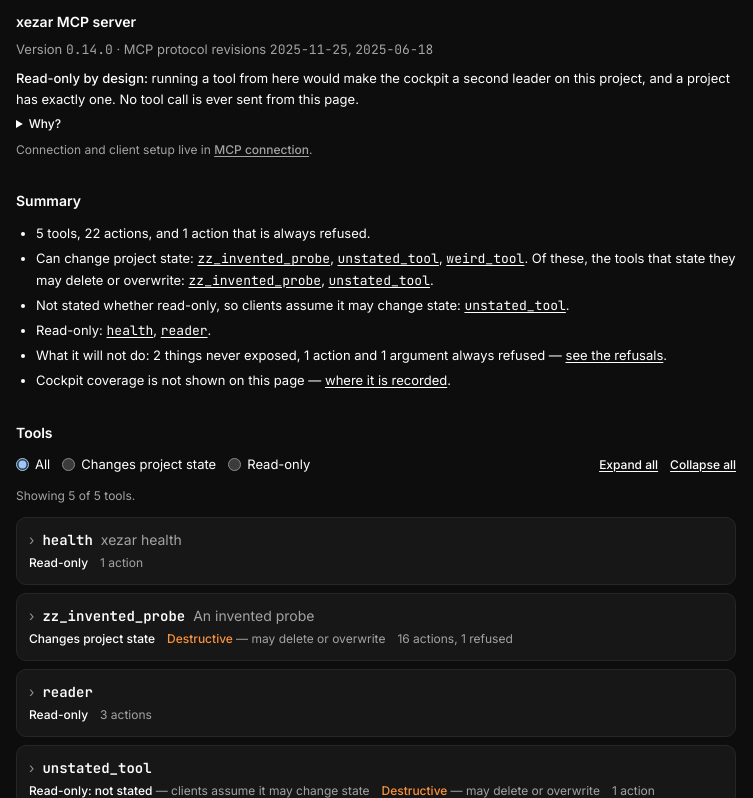
MCP API — finding a tool › filters by effect and announces the new count
The image size is (753, 798).
Click the radio button labelled "Read-only": (235, 465) [228, 458, 241, 471]
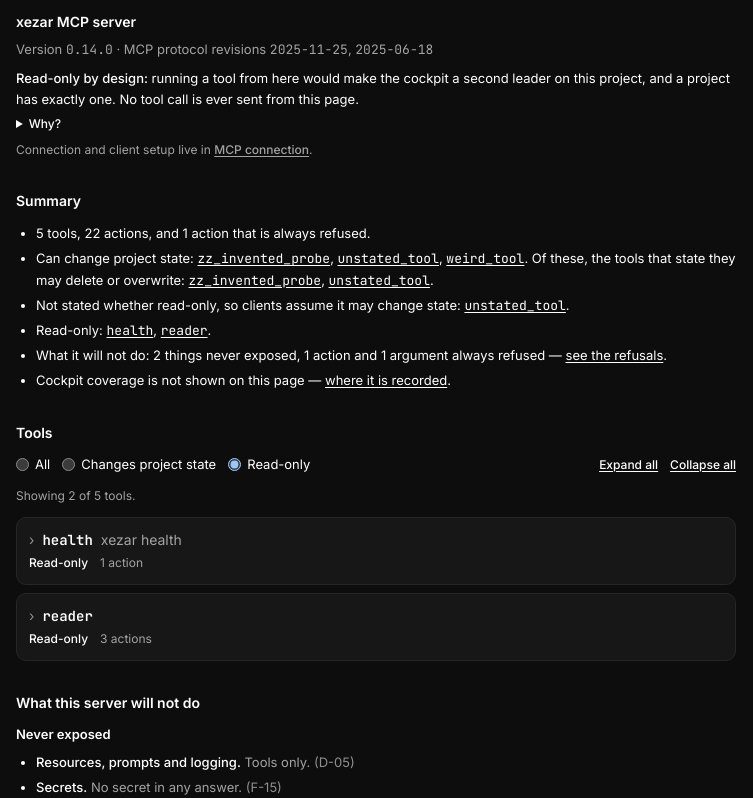
Expected: the message "Showing 2 of 5 tools." is shown, [16, 488, 136, 503]
